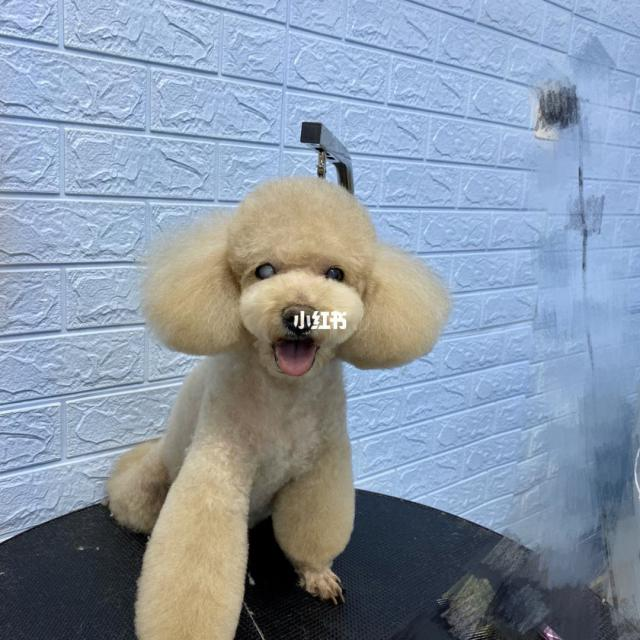eye: (252, 256, 279, 285), (320, 261, 350, 287)
